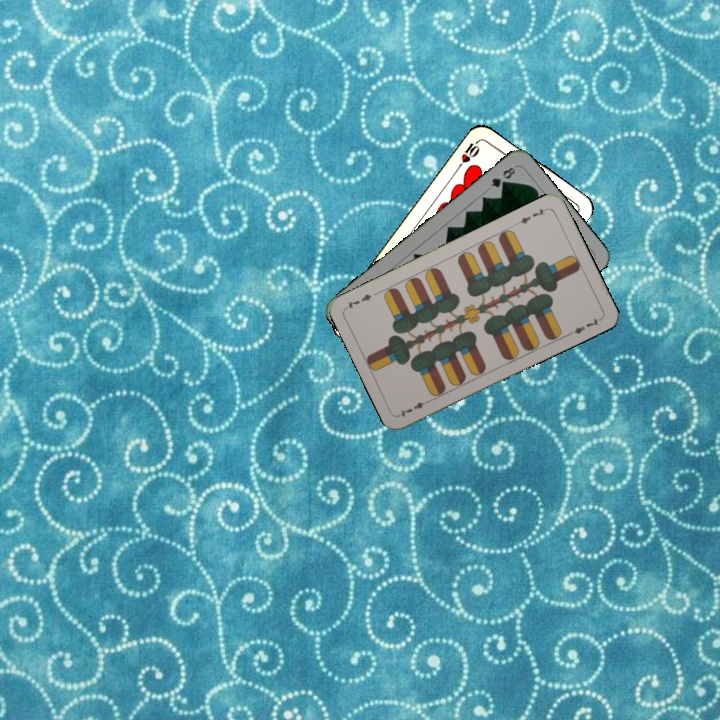E7: (396, 395, 434, 419), (512, 204, 550, 227)
G8: (486, 163, 518, 190)
H10: (454, 135, 483, 171)
